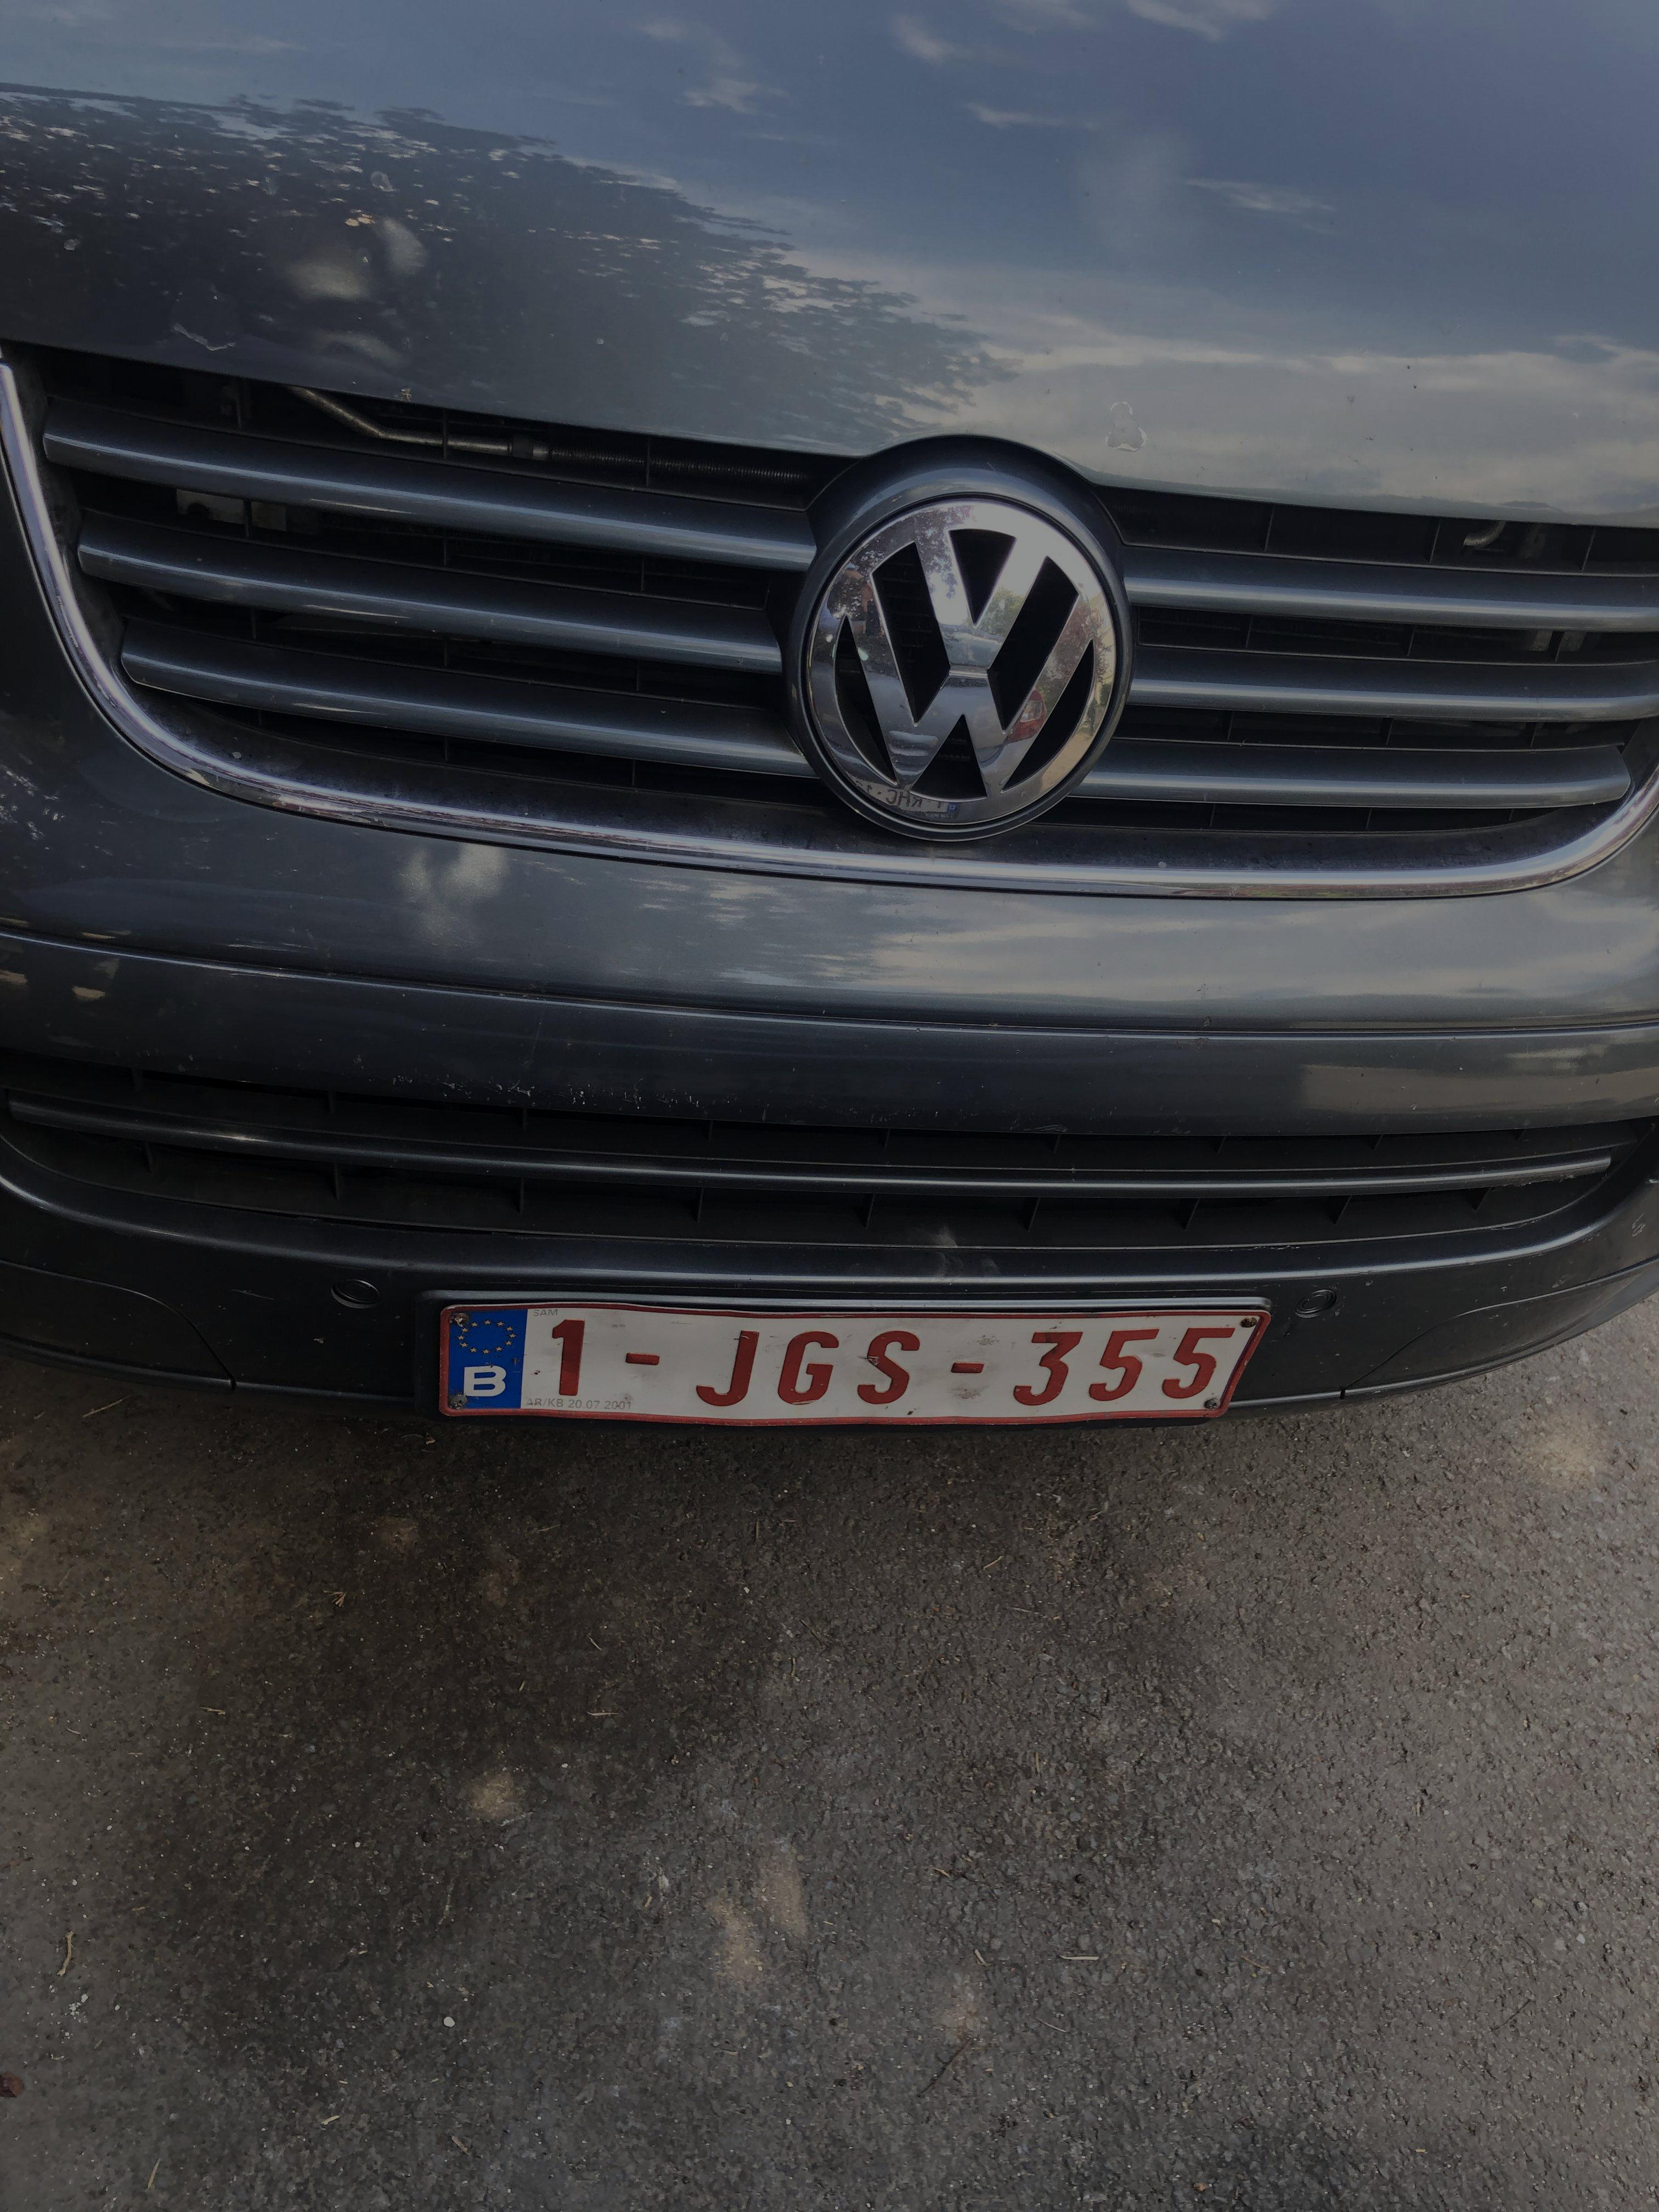plate: (418, 1276, 1292, 1464)
